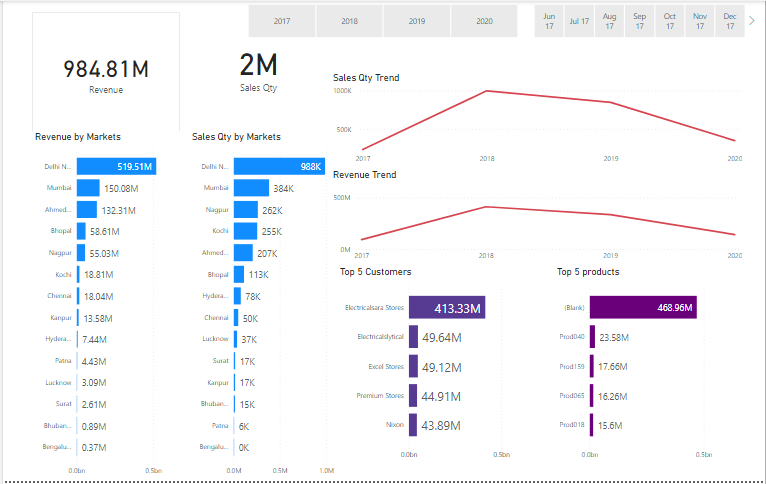

The dashboard page shown, as its layout file describes it:
{"tool":"powerbi","page":{"name":"Page 1","canvas":[1350,850],"ordinal":0},"visuals":[{"type":"card","fields":{"Values":["BaseMeasures.Revenue"]},"box":[52.1,20.2,262,211.7],"z":0},{"type":"card","fields":{"Values":["BaseMeasures.Sales Qty"]},"box":[313.6,0,278.1,230.3],"z":1000},{"type":"barChart","title":"Revenue by Markets","fields":{"Y":["BaseMeasures.Revenue"],"Category":["sales markets.markets_name"]},"box":[51.4,230.3,262.2,620.1],"z":2000},{"type":"barChart","title":"Sales Qty by Markets","fields":{"Y":["BaseMeasures.Sales Qty"],"Category":["sales markets.markets_name"]},"box":[329.5,230.3,262.2,620.1],"z":3000},{"type":"slicer","fields":{"Values":["sales date.year"]},"box":[409.3,0,526.2,70.9],"z":4000},{"type":"lineChart","title":"Revenue Trend","fields":{"Y":["BaseMeasures.Revenue"],"Category":["sales date.date.Variation.Date Hierarchy.Year","sales date.date.Variation.Date Hierarchy.Quarter","sales date.date.Variation.Date Hierarchy.Month","sales date.date.Variation.Date Hierarchy.Day"]},"box":[579.3,297.6,735.2,171.9],"z":4001},{"type":"lineChart","title":"Sales Qty Trend","fields":{"Y":["BaseMeasures.Sales Qty"],"Category":["sales date.cy_date.Variation.Date Hierarchy.Year","sales date.cy_date.Variation.Date Hierarchy.Quarter","sales date.cy_date.Variation.Date Hierarchy.Month","sales date.cy_date.Variation.Date Hierarchy.Day"]},"box":[579.3,125.8,735.2,171.9],"z":4002},{"type":"slicer","fields":{"Values":["sales date.cy_date"]},"box":[915.9,0,421.7,70.9],"z":4003},{"type":"barChart","title":"Top 5 Customers","fields":{"Y":["BaseMeasures.Revenue"],"Category":["sales customers.custmer_name"]},"box":[591.7,469.5,343.7,352.6],"z":4004},{"type":"barChart","title":"Top 5 products","fields":{"Y":["BaseMeasures.Revenue"],"Category":["sales products.product_code"]},"box":[976.2,469.5,326,352.6],"z":4005}]}

Visuals, with their boxes in screenshot pixels (x1, y1, x2, y2), scaled from the page's 1350x850 canvas onto the 766x484 screenshot:
card - BaseMeasures.Revenue: locate(30, 12, 178, 132)
card - BaseMeasures.Sales Qty: locate(178, 0, 336, 131)
"Revenue by Markets" barChart: locate(29, 131, 178, 483)
"Sales Qty by Markets" barChart: locate(187, 131, 336, 483)
slicer - sales date.year: locate(232, 0, 531, 40)
"Revenue Trend" lineChart: locate(329, 169, 746, 267)
"Sales Qty Trend" lineChart: locate(329, 72, 746, 170)
slicer - sales date.cy_date: locate(520, 0, 759, 40)
"Top 5 Customers" barChart: locate(336, 267, 531, 468)
"Top 5 products" barChart: locate(554, 267, 739, 468)
